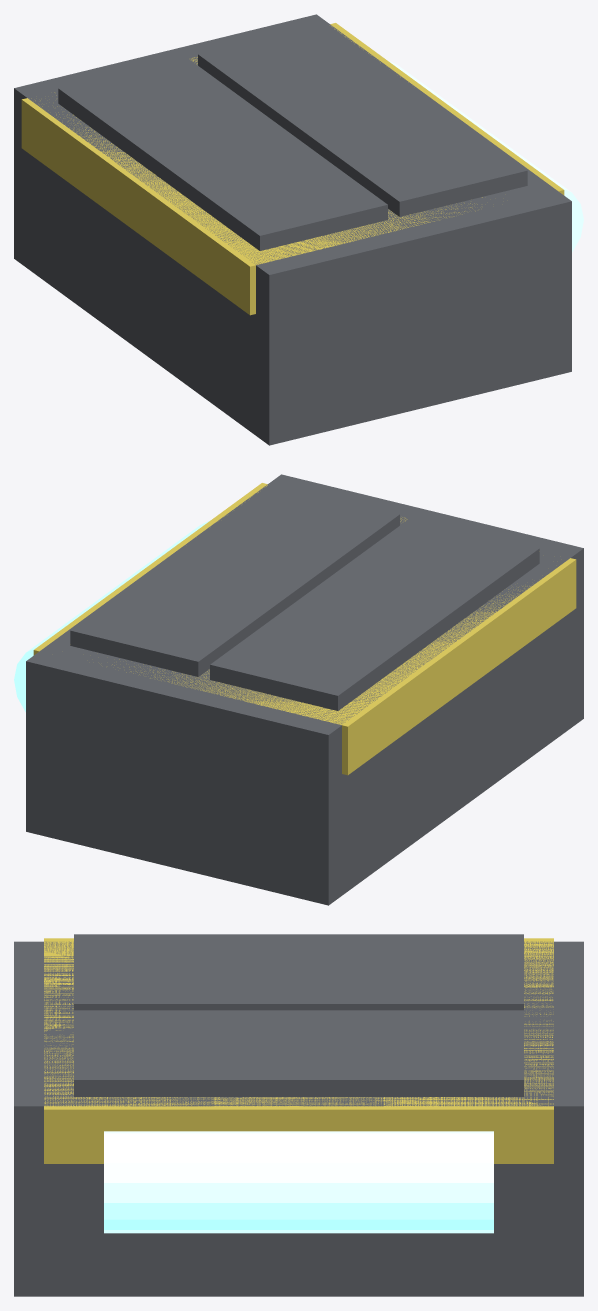
Rendered from SM_EctoplasmCanister.glb.
The picture shows the model from 3 angles, top to bottom: view 1: azimuth 30°, elevation 25°; view 2: azimuth 150°, elevation 25°; view 3: azimuth 270°, elevation 25°; orthographic projection. The views are drawn at different scales.
Visible parts, largest first — view 1: TrapBase, DoorLeft, DoorRight, HazardTrim, EctoVial; view 2: TrapBase, DoorLeft, DoorRight, HazardTrim, EctoVial; view 3: TrapBase, EctoVial, DoorRight, DoorLeft, HazardTrim.
Boxes of the visible parts, box(x1,y1,x2,y2) form: TrapBase: box(14, 14, 571, 445); DoorLeft: box(58, 57, 387, 250); DoorRight: box(198, 23, 527, 216); HazardTrim: box(21, 23, 564, 315); EctoVial: box(387, 60, 583, 252); TrapBase: box(26, 474, 583, 905); DoorLeft: box(210, 517, 539, 710); DoorRight: box(70, 483, 399, 676); HazardTrim: box(33, 483, 576, 775); EctoVial: box(14, 520, 210, 712); TrapBase: box(14, 941, 583, 1296); EctoVial: box(104, 1131, 493, 1233); DoorRight: box(74, 1010, 523, 1096); DoorLeft: box(74, 934, 523, 1010); HazardTrim: box(44, 938, 553, 1163).
Bounding box in the file's own units: 0.31 × 0.1525 × 0.38.
